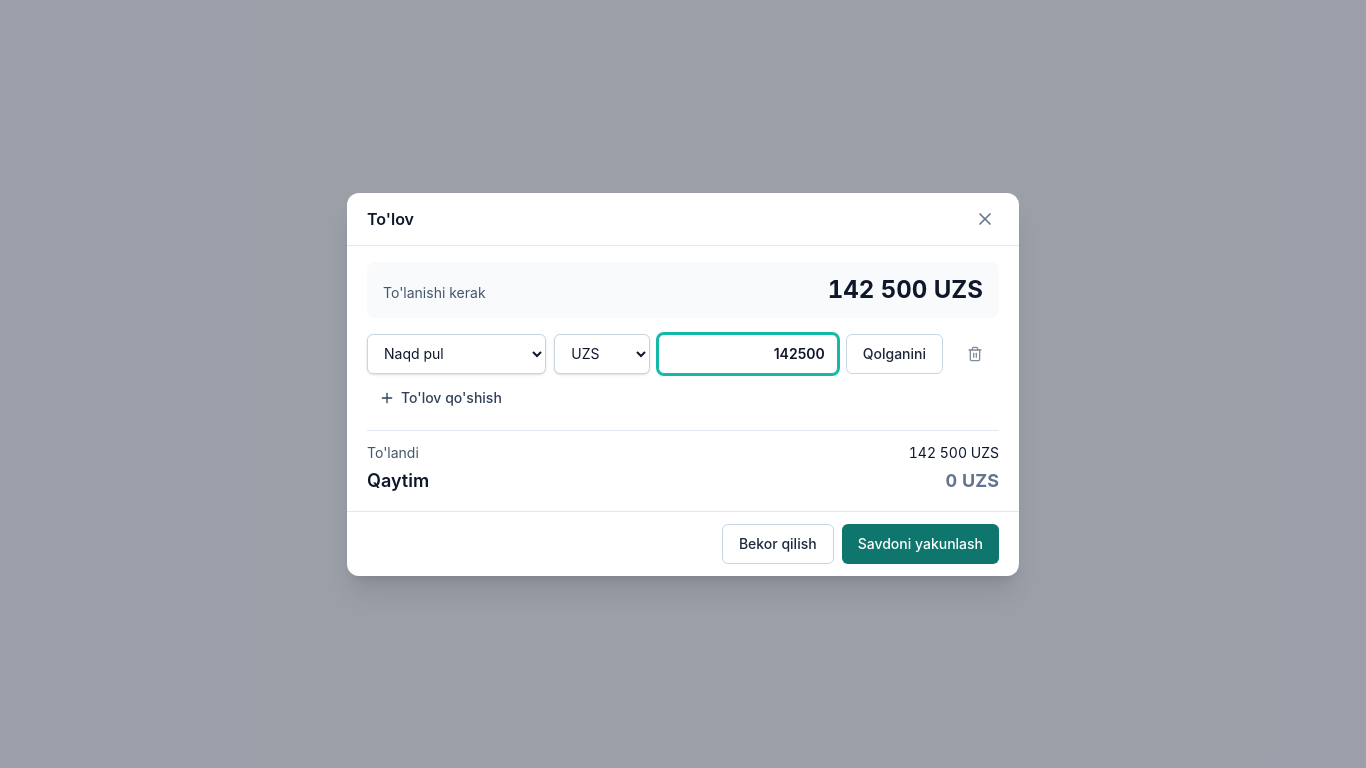
to'lov oynasi › naqd to'lovda qaytim hisoblanadi va yuboriladi
Later steps or results of the test are not shown.
Replace the text in the field with test id "pay-amount-1" with "150 000" at (748, 354), box [658,334,838,374]
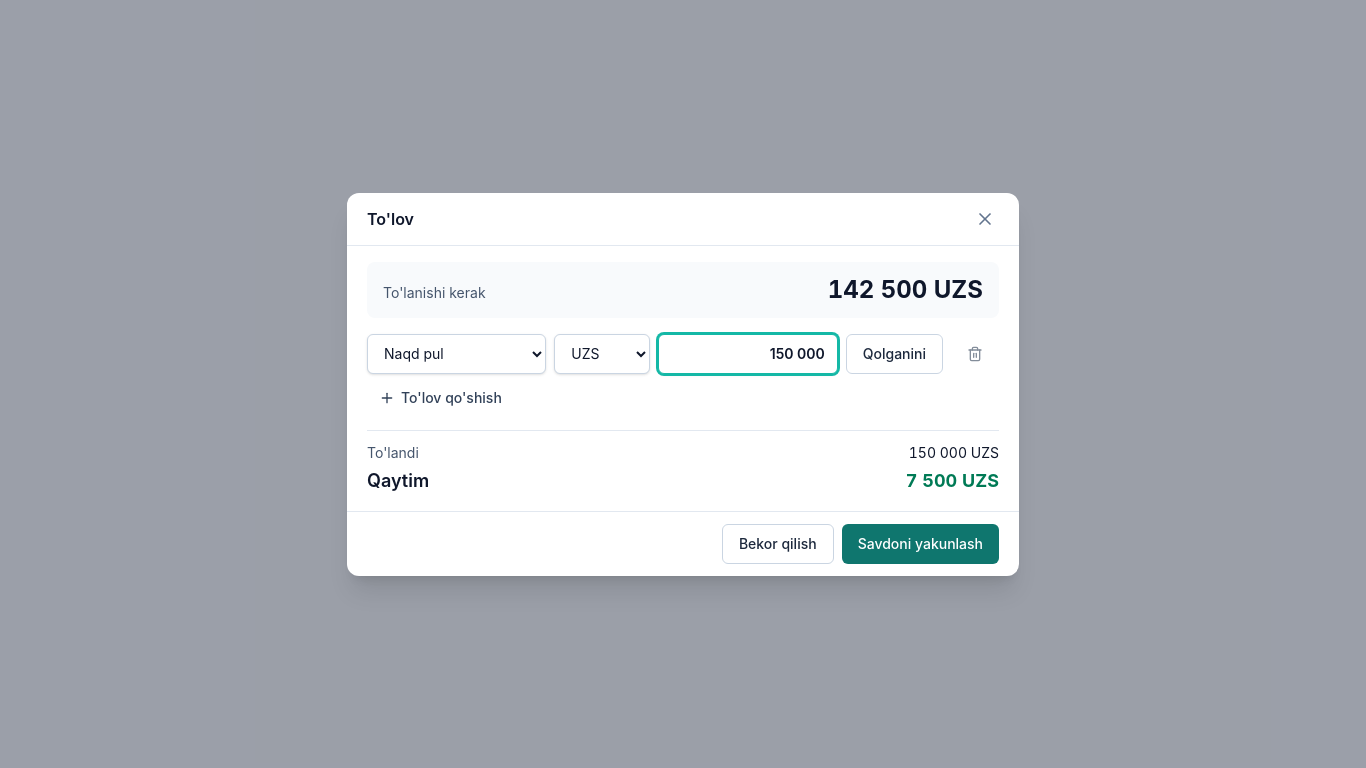
expect the text with test id "pay-change" reads "7 500 UZS": met, box [906,470,999,490]
